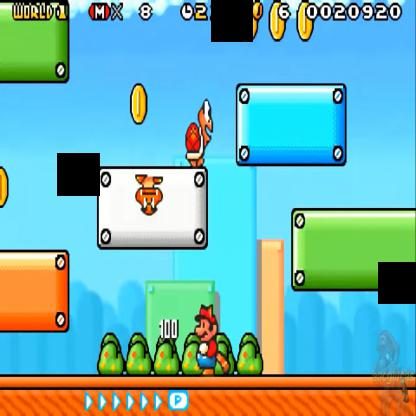Goomba: (133, 169, 162, 221)
Mario: (193, 302, 223, 375)
koopa: (180, 94, 214, 169)
moneda: (266, 0, 288, 52), (127, 78, 149, 125), (296, 2, 312, 51), (240, 0, 258, 41), (0, 160, 13, 216)
